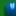blue: (0, 0, 16, 16)
